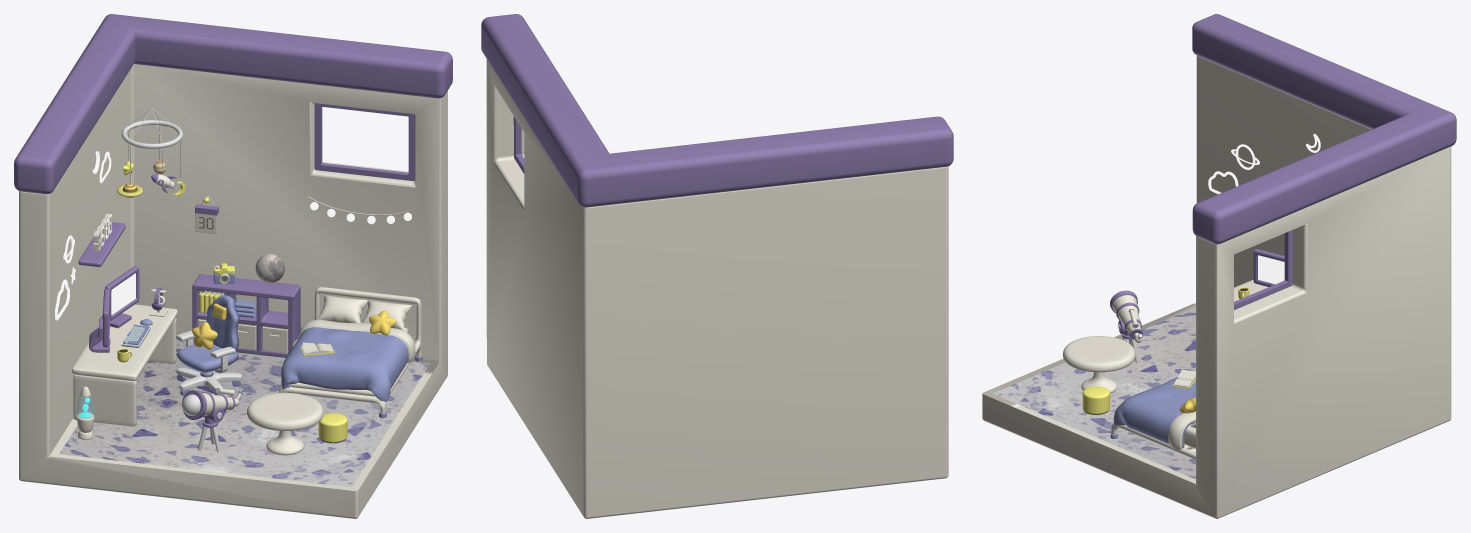
File: gameroom_compressed.glb
3 renders of one model, left to right at view 1: azimuth 30°, elevation 25°; view 2: azimuth 150°, elevation 25°; view 3: azimuth 270°, elevation 25°, orthographic. The views are drawn at different scales.
Parts seen in each view (by area): view 1: Cube.034, Cube.035, Cube.039, Plane.003, Cube.001, Cube.003, Cube.002, table, Plane.007, Cube.037, Cube.016, Cube.014 (+12 smaller); view 2: Cube.034, Cube.035; view 3: Cube.034, Cube.035, Cube.039, Plane.003, table, Cube.010, Cube.037, Cylinder.022, Cylinder.007, Plane.002.
Boxes of the visible parts, x1,y1,x2,y2 form: Cube.034: (19,64,447,518); Cube.035: (14,14,452,194); Cube.039: (59,335,429,487); Plane.003: (281,327,408,401); Cube.001: (192,274,300,357); Cube.003: (72,304,177,381); Cube.002: (73,318,176,426); table: (247,392,323,455); Plane.007: (279,287,421,413); Cube.037: (314,103,415,181); Cube.016: (206,294,239,350); Cube.014: (198,319,288,353); Cube.034: (486,59,948,518); Cube.035: (481,14,953,207); Cube.034: (982,55,1451,518); Cube.035: (1192,14,1456,244); Cube.039: (992,307,1195,479); Plane.003: (1113,377,1195,448); table: (1063,336,1135,393); Cube.010: (1253,249,1284,286); Cube.037: (1234,230,1292,309); Cylinder.022: (1110,290,1142,339); Cylinder.007: (1082,386,1109,414); Plane.002: (1168,411,1195,449).
Size of the model in its own units: 3.16 by 2.25 by 3.13.
23 materials, 2 textured.
